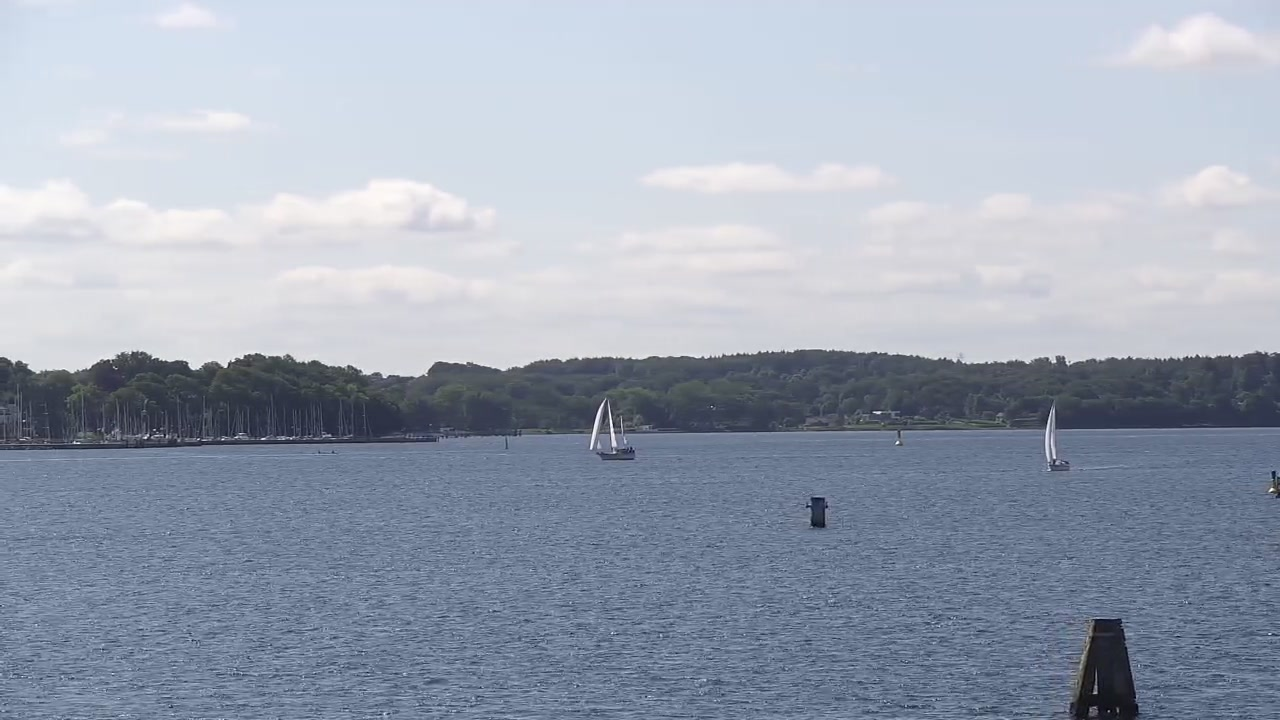sea: (588, 397, 636, 460), (1044, 399, 1071, 471), (322, 396, 355, 442), (261, 390, 291, 440), (218, 399, 235, 441)
